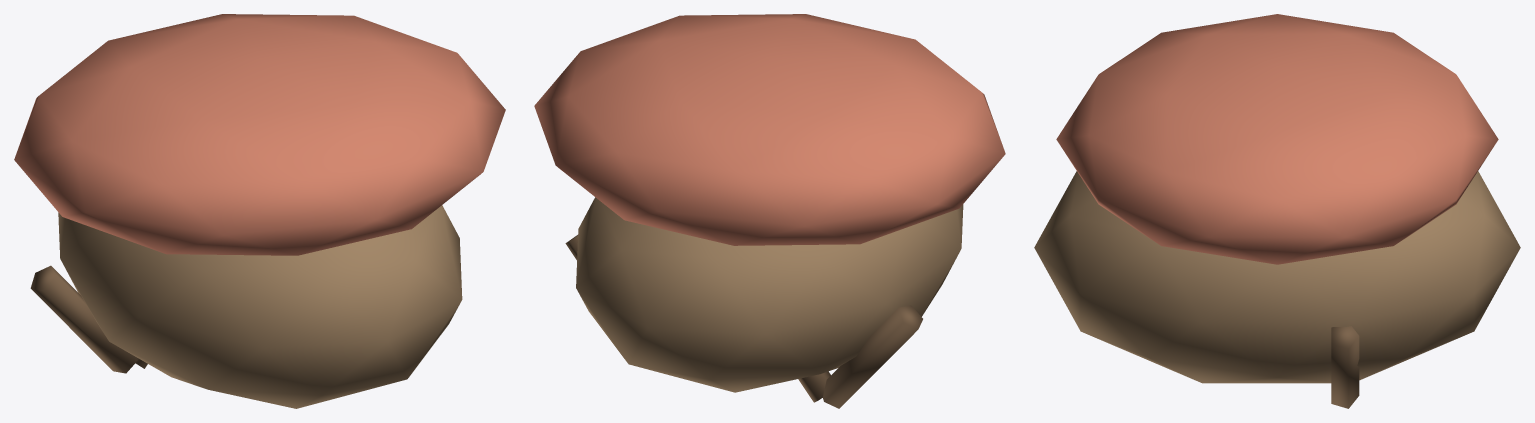
Rendered from mushroom_bug.glb.
3 views of the same model, side by side, from view 1: azimuth 30°, elevation 25°; view 2: azimuth 150°, elevation 25°; view 3: azimuth 270°, elevation 25° (orthographic). The views are drawn at different scales.
Visible parts, largest first — view 1: Cap, Body.001, Leg.004; view 2: Cap, Body.001, Leg.004, Leg.005; view 3: Cap, Body.001, Leg.007.
Boxes of the visible parts, bbox=[...] form: Cap: bbox=[14, 14, 505, 255]; Body.001: bbox=[58, 205, 462, 408]; Leg.004: bbox=[30, 265, 138, 373]; Cap: bbox=[534, 14, 1005, 245]; Body.001: bbox=[576, 197, 963, 392]; Leg.004: bbox=[823, 305, 922, 408]; Leg.005: bbox=[798, 371, 830, 402]; Cap: bbox=[1056, 14, 1498, 264]; Body.001: bbox=[1034, 171, 1520, 383]; Leg.007: bbox=[1331, 326, 1359, 408].
Bounding box in the file's own units: 1.05 × 0.75 × 1.1.
